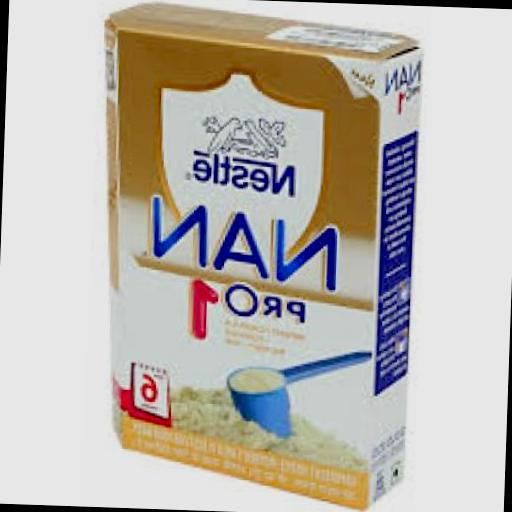cardboard: (90, 0, 427, 508)
